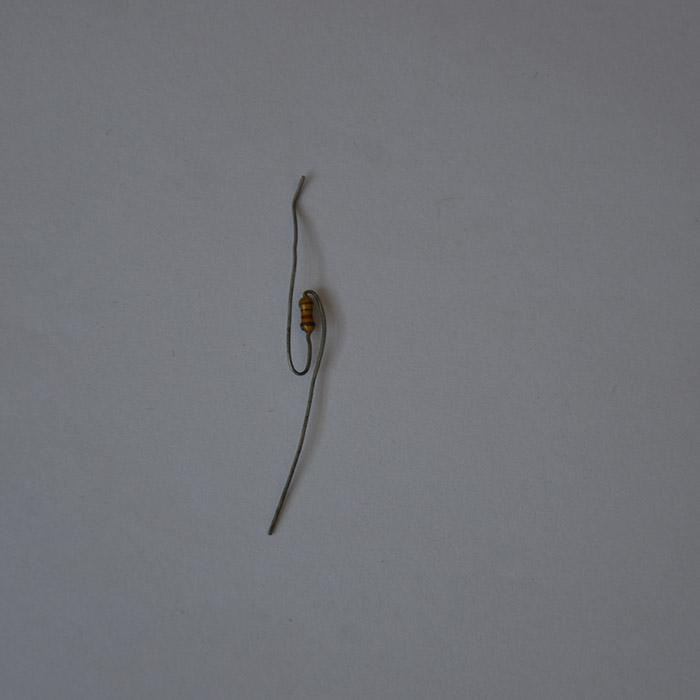resistor: (298, 294, 316, 333)
